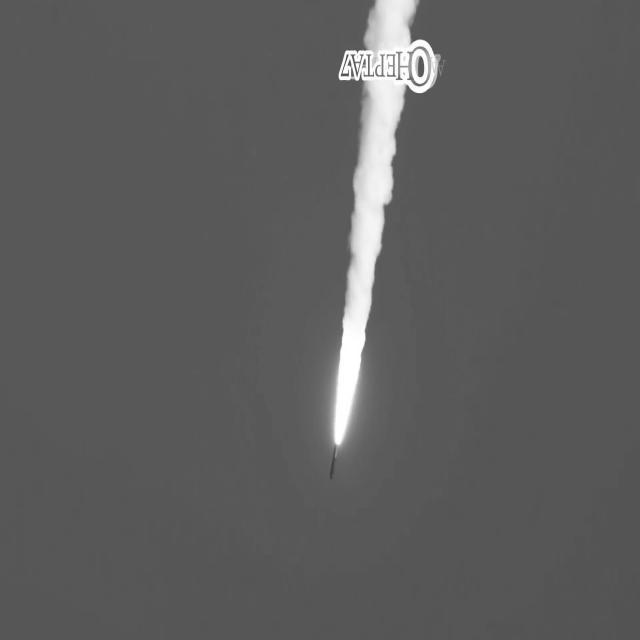Missile: (326, 426, 339, 494)
